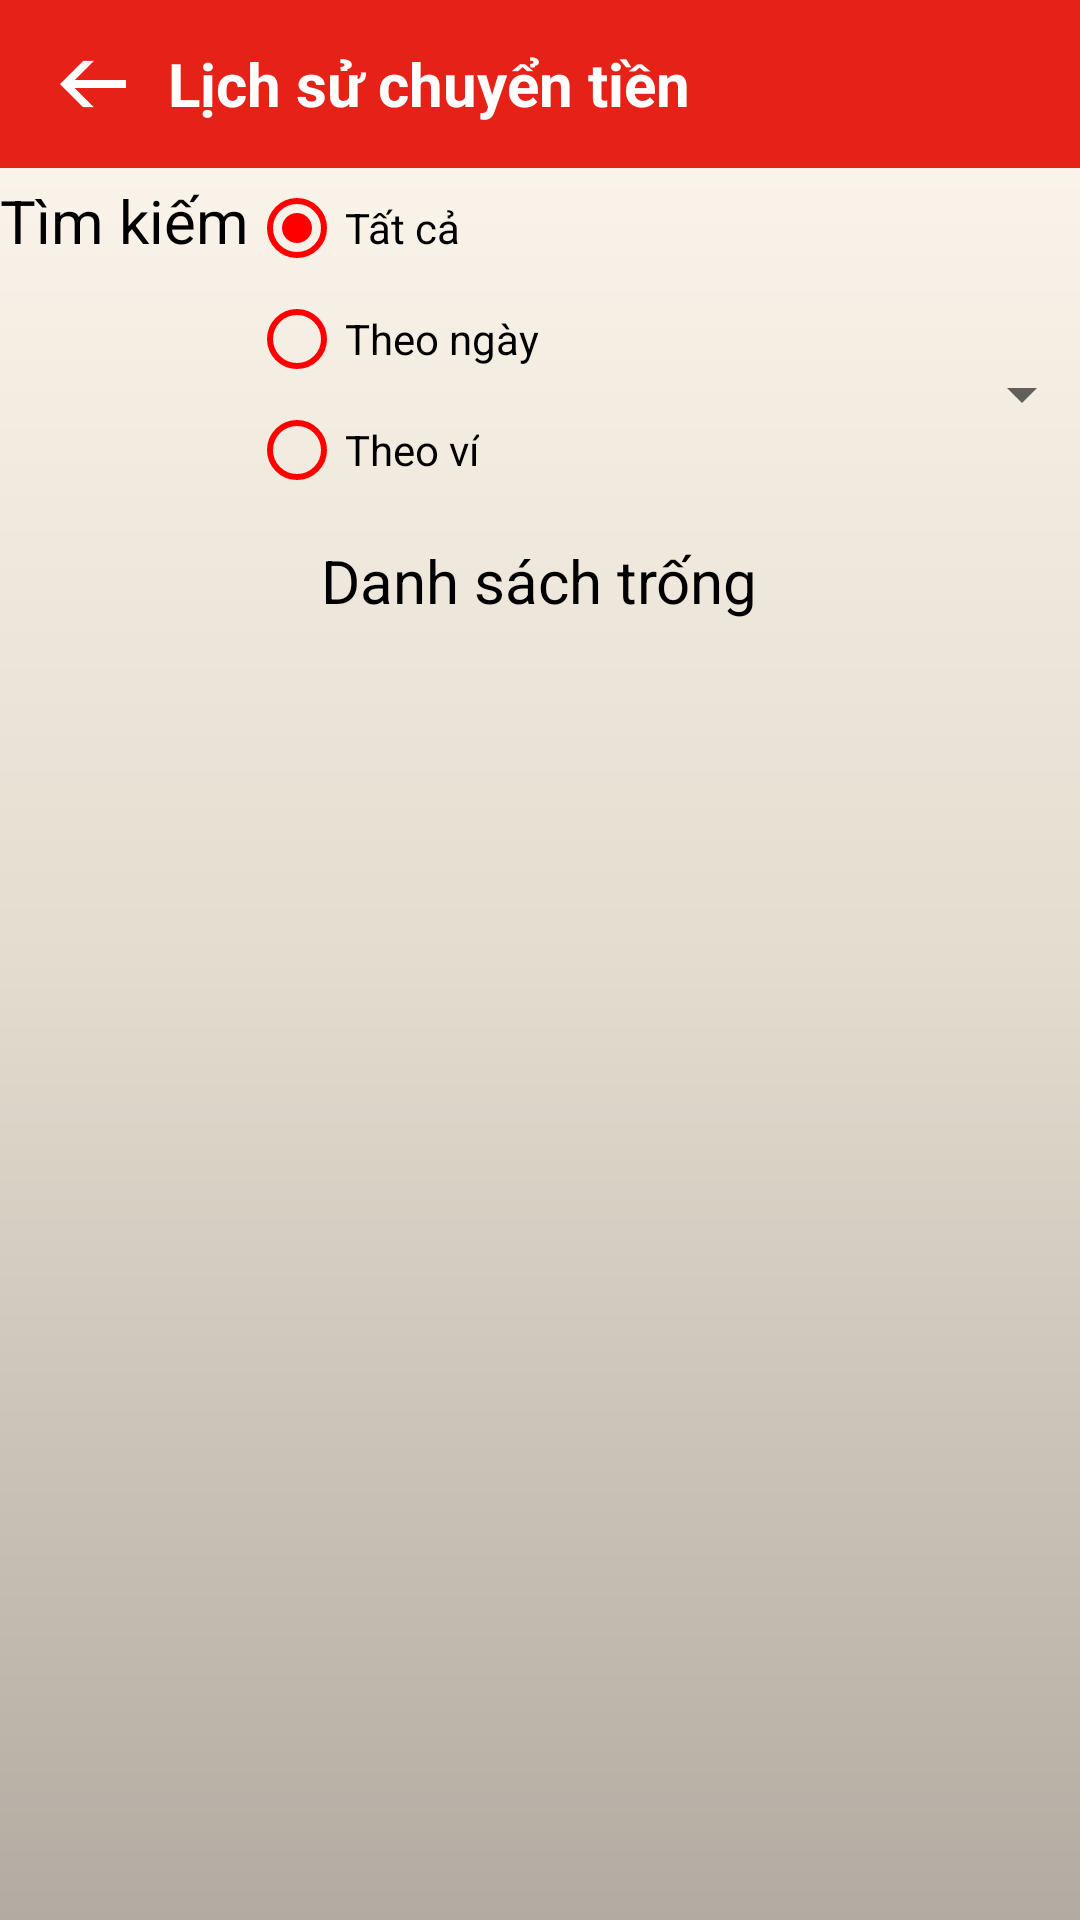

Icon click points for this 1080w x 1920h phone screenshot, format [x,y]:
back: [93,84]
